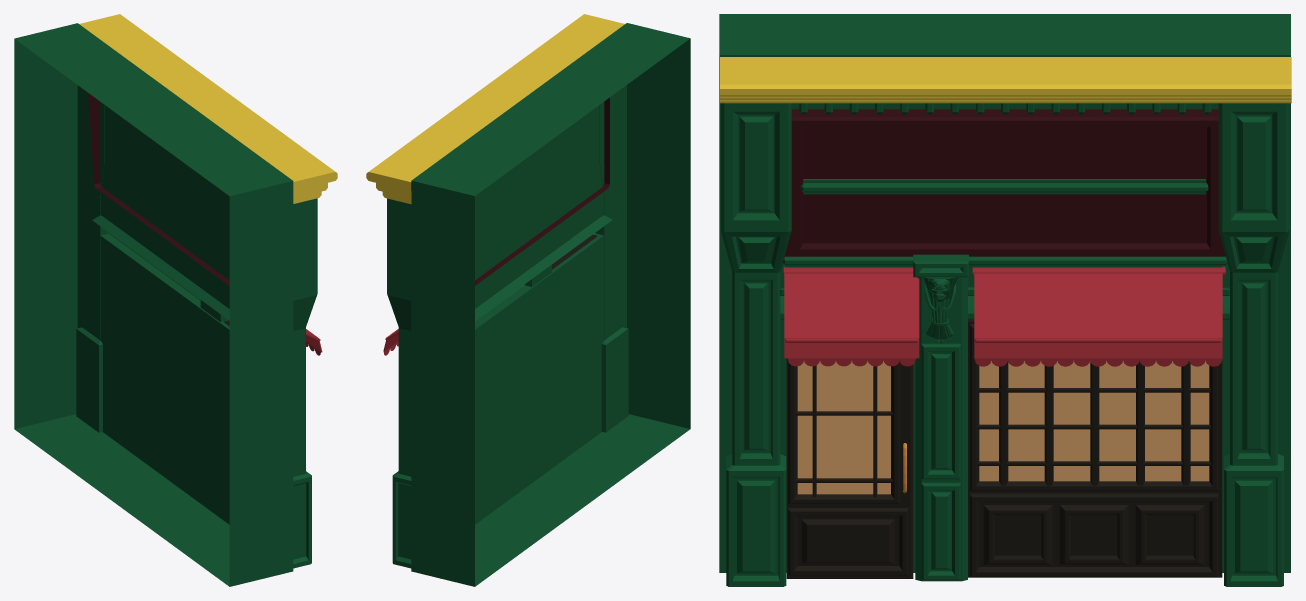
File: devanture_resto.fbx
3 views of the same model, side by side, from view 1: azimuth 30°, elevation 25°; view 2: azimuth 150°, elevation 25°; view 3: azimuth 270°, elevation 25° (orthographic). The views are drawn at different scales.
Parts seen in each view (by area): view 1: Cube.453, Cube.454, Cube.455, Cube.469, Cube.467; view 2: Cube.453, Cube.454, Cube.455, Cube.469, Cube.467; view 3: Cube.454, Cube.467, Cube.453, Cube.455, Cube.474, Cube.482, Cube.463, Cube.464, Cube.459, Cube.473, Cube.483, Cube.465 (+13 smaller).
Boxes of the visible parts, x1,y1,x2,y2 form: Cube.453: [14, 23, 293, 586]; Cube.454: [76, 85, 317, 568]; Cube.455: [79, 14, 337, 203]; Cube.469: [92, 215, 229, 320]; Cube.467: [88, 93, 229, 285]; Cube.453: [411, 23, 690, 586]; Cube.454: [387, 85, 628, 568]; Cube.455: [366, 14, 624, 204]; Cube.469: [475, 215, 612, 320]; Cube.467: [475, 97, 609, 285]; Cube.454: [721, 103, 1289, 586]; Cube.467: [784, 109, 1225, 256]; Cube.453: [719, 14, 1290, 572]; Cube.455: [720, 57, 1291, 103]; Cube.474: [974, 273, 1222, 358]; Cube.482: [979, 360, 1209, 481]; Cube.463: [970, 493, 1218, 576]; Cube.464: [970, 324, 1218, 490]; Cube.459: [788, 361, 908, 575]; Cube.473: [784, 273, 919, 358]; Cube.483: [797, 360, 890, 494]; Cube.465: [921, 343, 960, 580].
Size of what is drawn, in the model's own units: 189 by 600 by 601.
